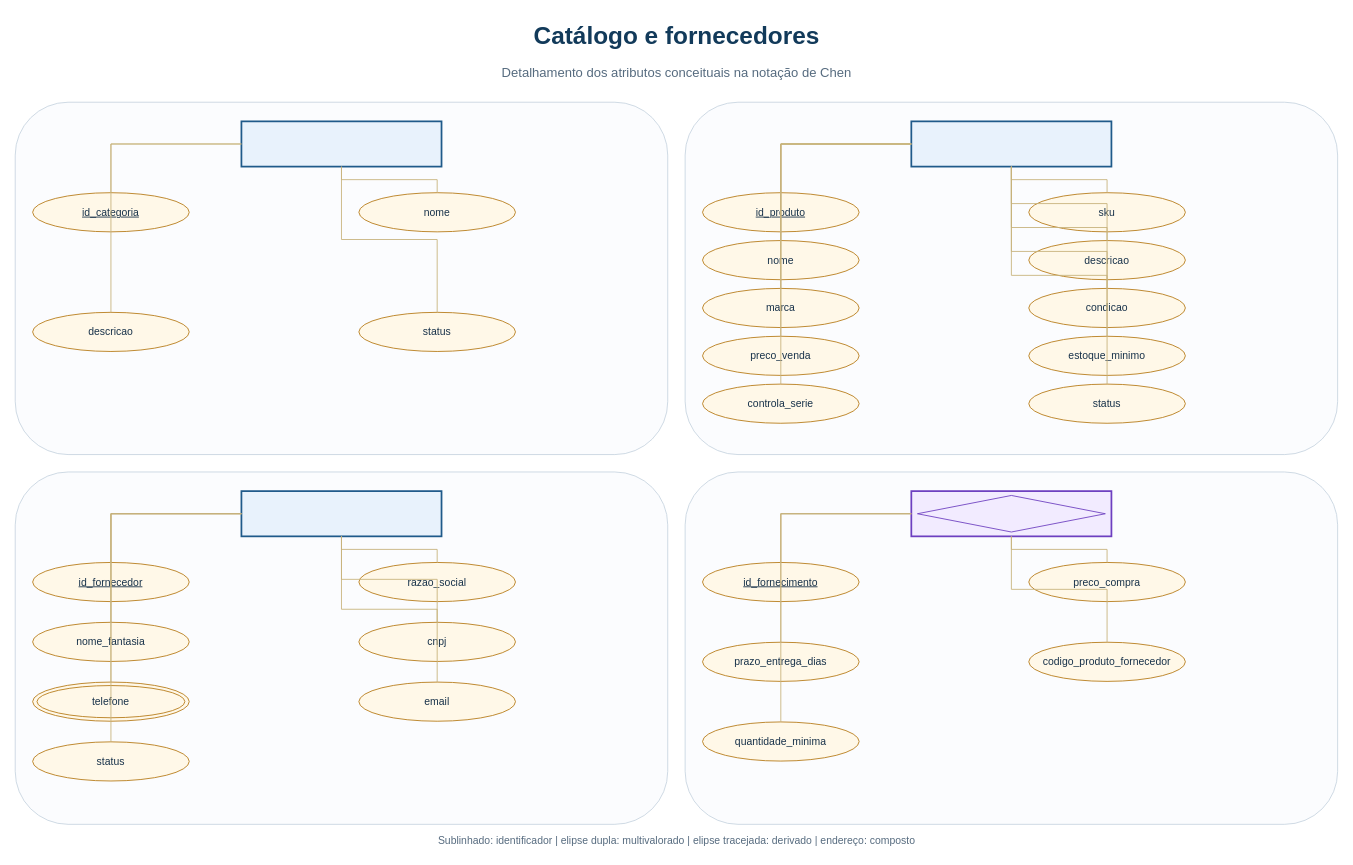
The diagram is 1353 pixels wide and 865 high, and some of its shapes have lost their labels. Here are the shapes that lost their labels. From the top down, the centre of each, then its label:
At point (341, 143): "CATEGORIA".
At point (1011, 143): "PRODUTO".
At point (341, 513): "FORNECEDOR".
At point (1011, 513): "FORNECIMENTO".
